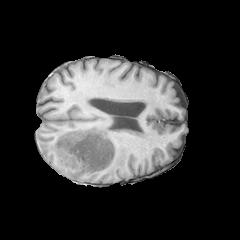glioma: (38, 123, 137, 182)
